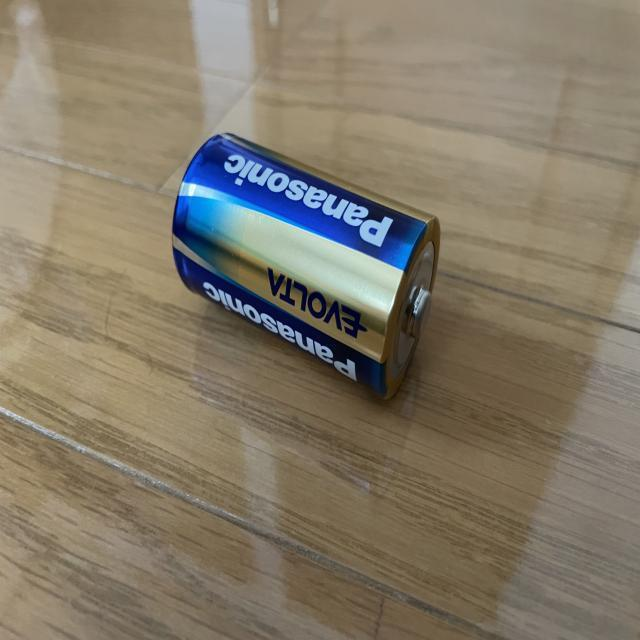battery: (169, 130, 447, 416)
